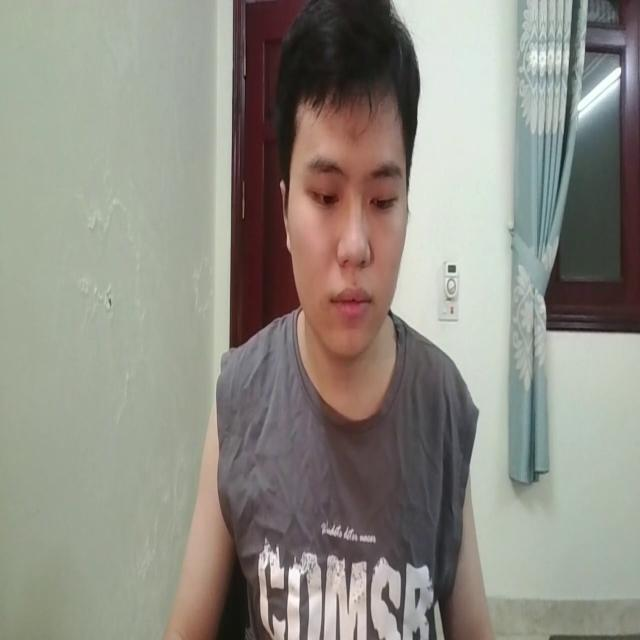student: (166, 0, 497, 640)
